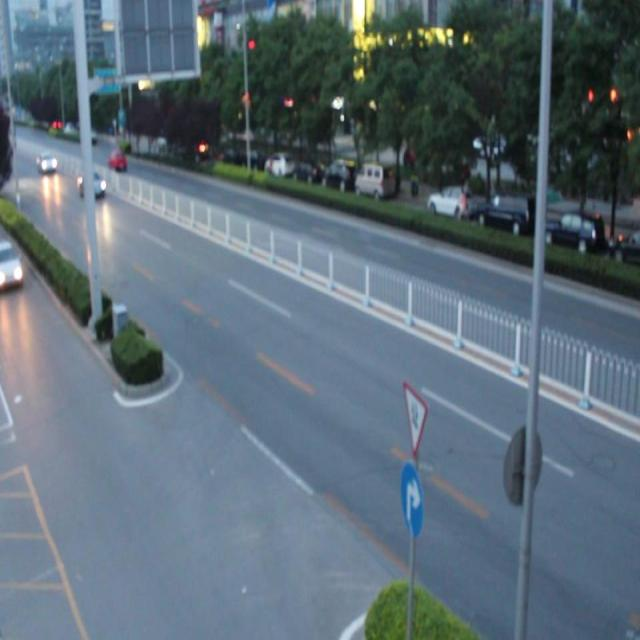car: (1, 234, 23, 291), (78, 170, 107, 196), (109, 148, 128, 170)
